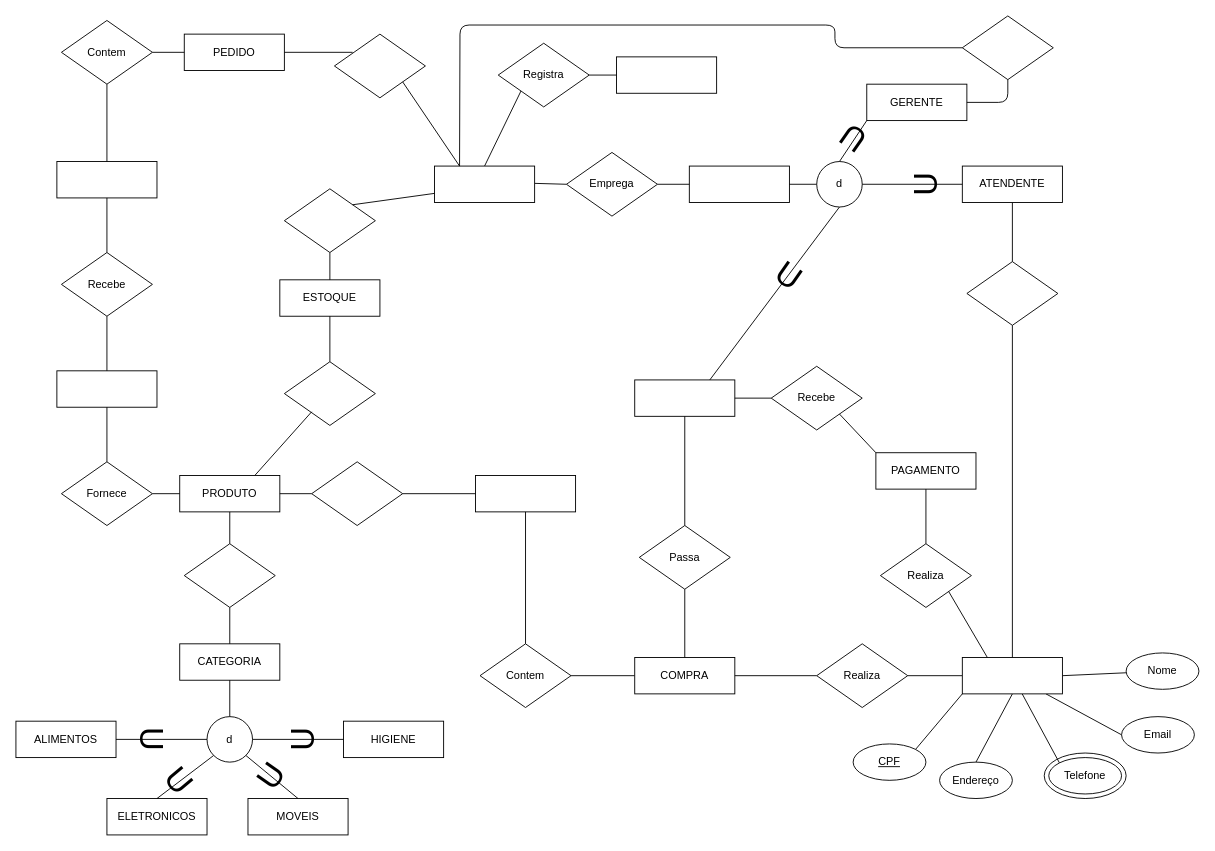
Image size: 1215x851. Some labels were removed from this diagram. Each missing label, with the centre of its shape:
Atende: [1012,293]
CAIXA: [684,397]
CLIENTE: [1011,675]
Disponivel_Em: [329,393]
Faz: [379,65]
FORNECEDOR: [106,388]
FUNCIONARIOS: [738,183]
Gerencia: [1007,47]
Inclui: [357,493]
ITEM_COMPRA: [525,493]
ITEM_PEDIDO: [106,179]
LOJA: [484,183]
Mantem: [329,220]
Tem: [229,575]
VENDAS: [666,74]
